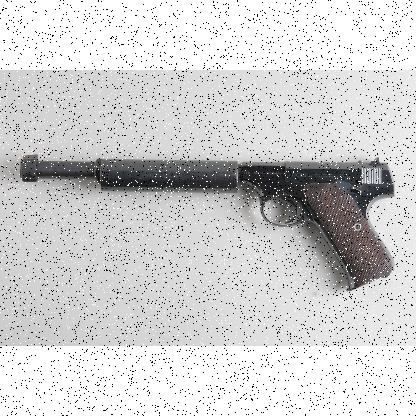gun: (19, 152, 394, 290)
